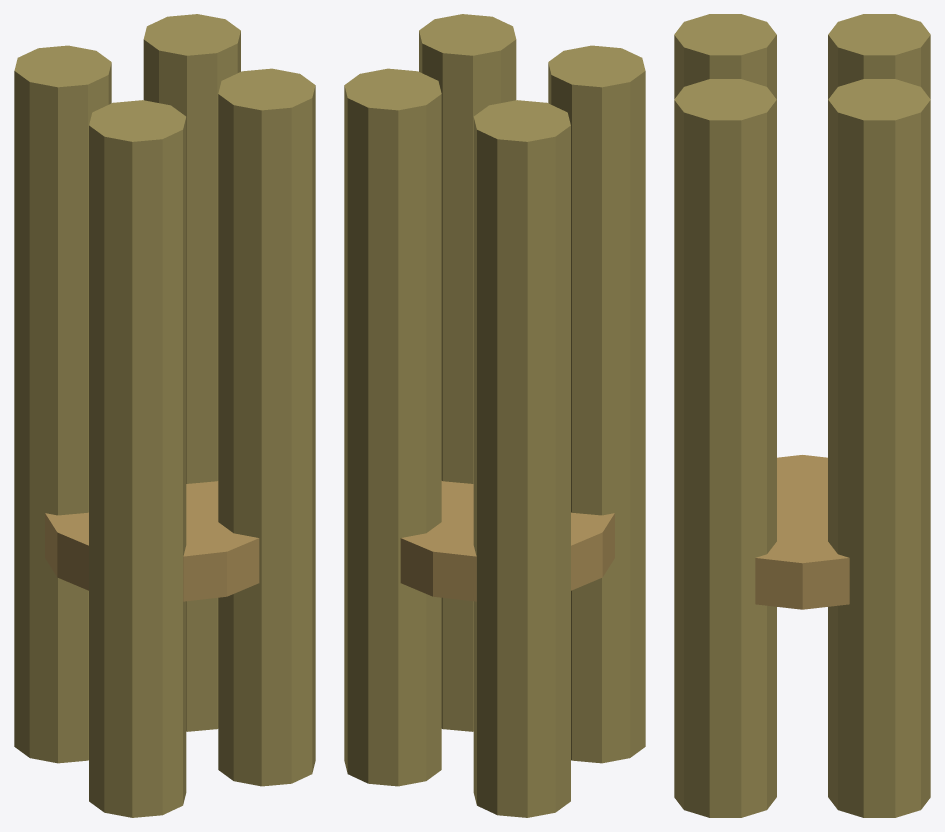
Rendered from pickup_bamboo.glb.
The picture shows the model from 3 angles, left to right: view 1: azimuth 30°, elevation 25°; view 2: azimuth 150°, elevation 25°; view 3: azimuth 270°, elevation 25°; orthographic projection. The views are drawn at different scales.
Parts seen in each view (by area): view 1: PICKUP_Bamboo; view 2: PICKUP_Bamboo; view 3: PICKUP_Bamboo.
Part boxes in pixels (left/top/right/bottom): PICKUP_Bamboo: left=14, top=14, right=315, bottom=817; PICKUP_Bamboo: left=344, top=14, right=645, bottom=817; PICKUP_Bamboo: left=674, top=14, right=930, bottom=817.
Bounding box in the file's own units: 0.1 × 0.3 × 0.1.
